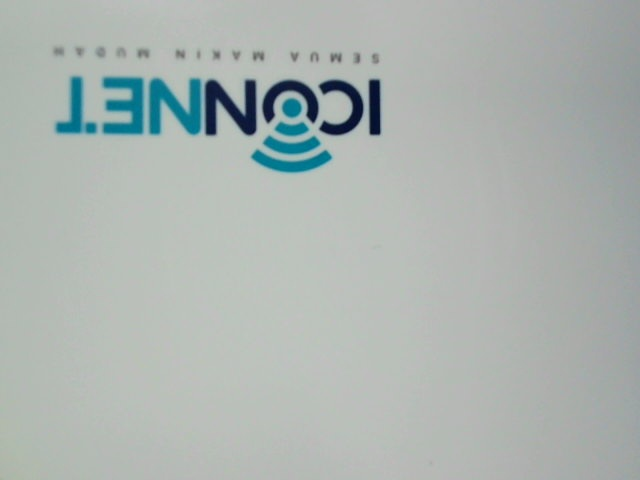BM_ICONNET: (28, 29, 404, 178)
